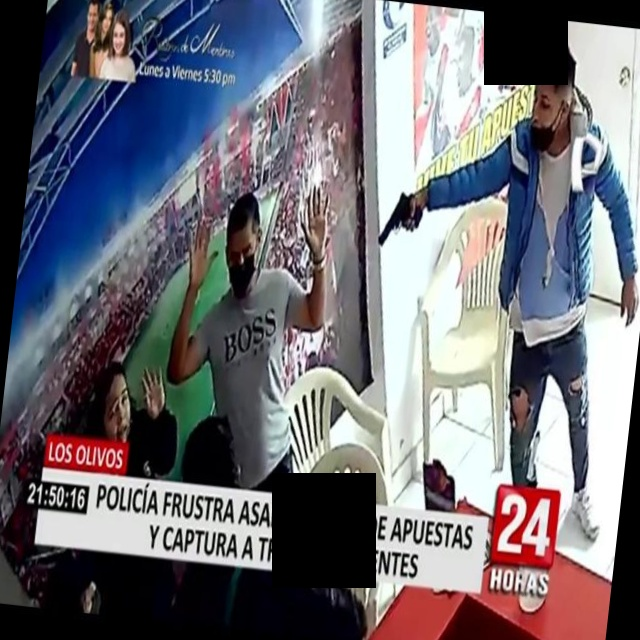gun: (367, 159, 429, 266)
